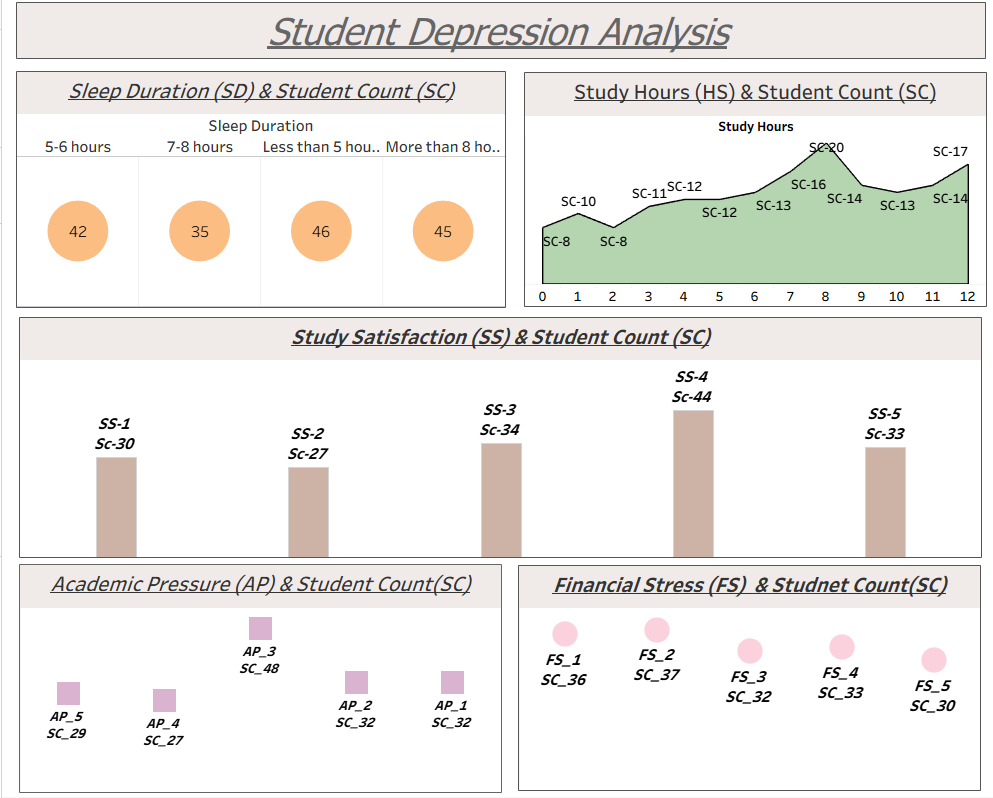

The page's visual inventory and layout, read from the dashboard file:
{"tool":"tableau","page":{"name":"Student Count Analysis","canvas":[1000,800],"ordinal":0},"visuals":[{"type":"text","box":[32,13,935,56]},{"type":"worksheet","title":"SH &SC","mark":"Area","rows":["Index_Column"],"cols":["Study_Hours"],"box":[498,78,476,214]},{"type":"worksheet","title":"SD & SC","mark":"Pie","cols":["Sleep_Duration"],"box":[32,80,446,211]},{"type":"worksheet","title":"SS & SC","mark":"Automatic","rows":["Index_Column"],"cols":["Study_Satisfaction"],"box":[30,314,950,226]},{"type":"worksheet","title":"AP $ SC","mark":"Square","rows":["Index_Column"],"cols":["Academic_Pressure"],"box":[28,554,489,229]},{"type":"worksheet","title":"FS & SC","mark":"Circle","rows":["Index_Column"],"cols":["Financial_Stress"],"box":[536,554,444,226]}]}

Visuals, with their boxes in screenshot pixels (x1, y1, x2, y2), scaled from the page's 1000x800 canvas onto the 993x798 screenshot:
text: locate(32, 13, 960, 69)
"SH &SC" worksheet (Area marks): locate(495, 78, 967, 291)
"SD & SC" worksheet (Pie marks): locate(32, 80, 475, 290)
"SS & SC" worksheet: locate(30, 313, 973, 539)
"AP $ SC" worksheet (Square marks): locate(28, 553, 513, 781)
"FS & SC" worksheet (Circle marks): locate(532, 553, 973, 778)
